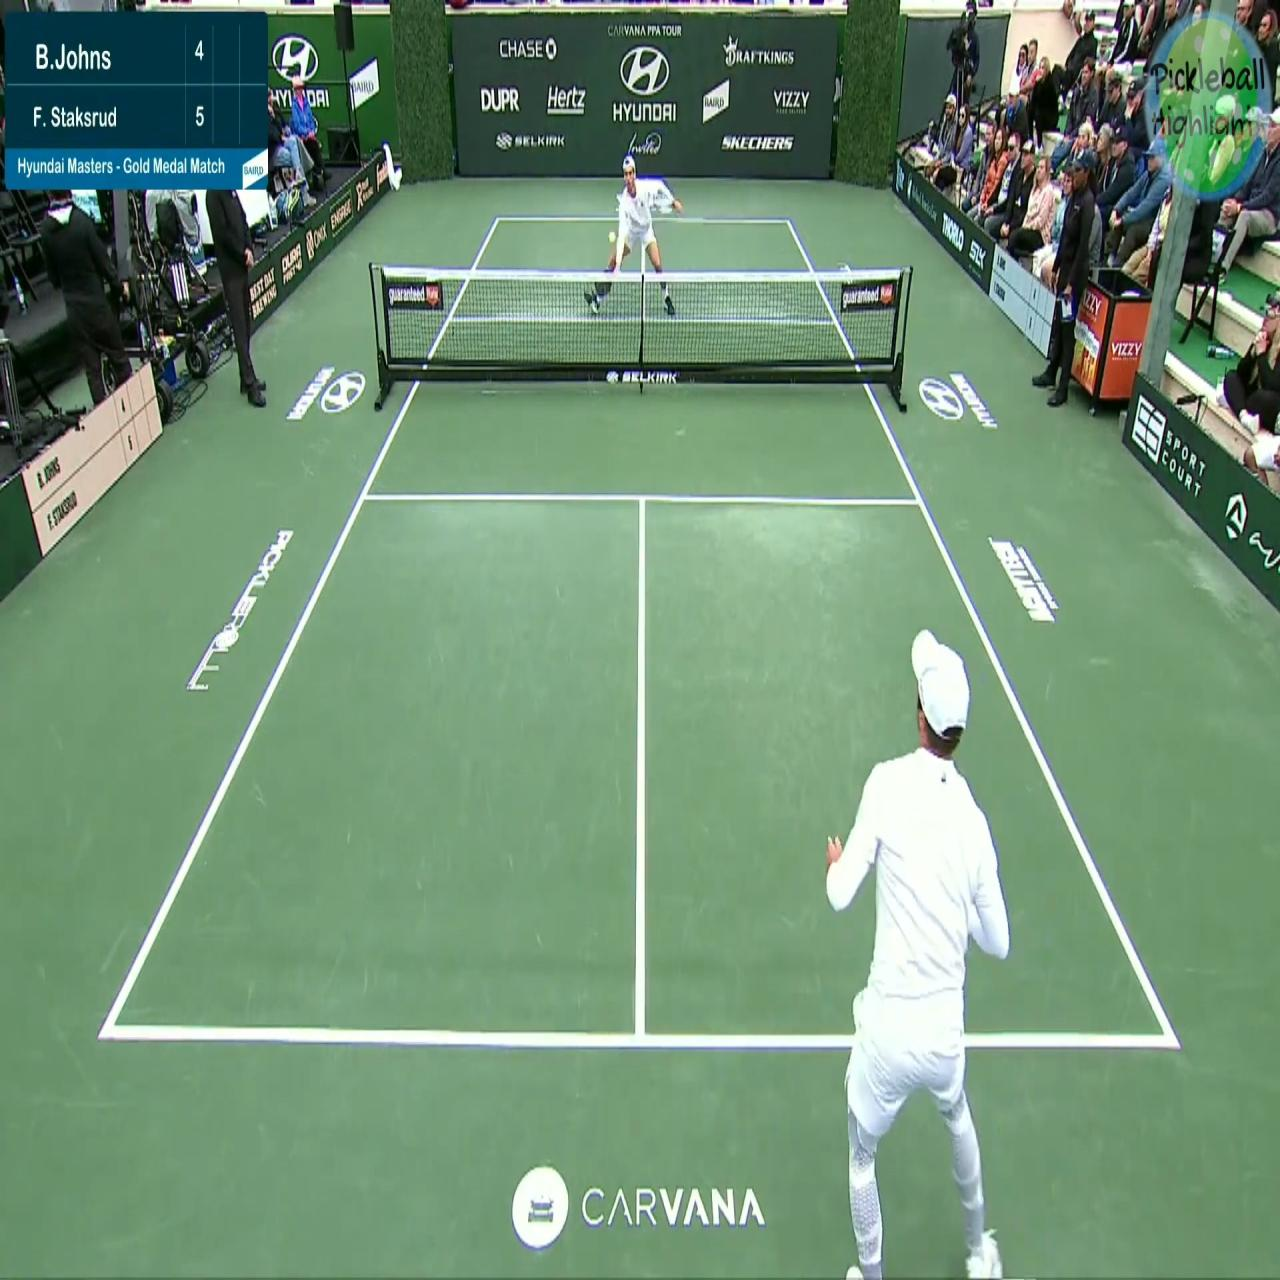pickleball: (608, 231, 617, 243)
